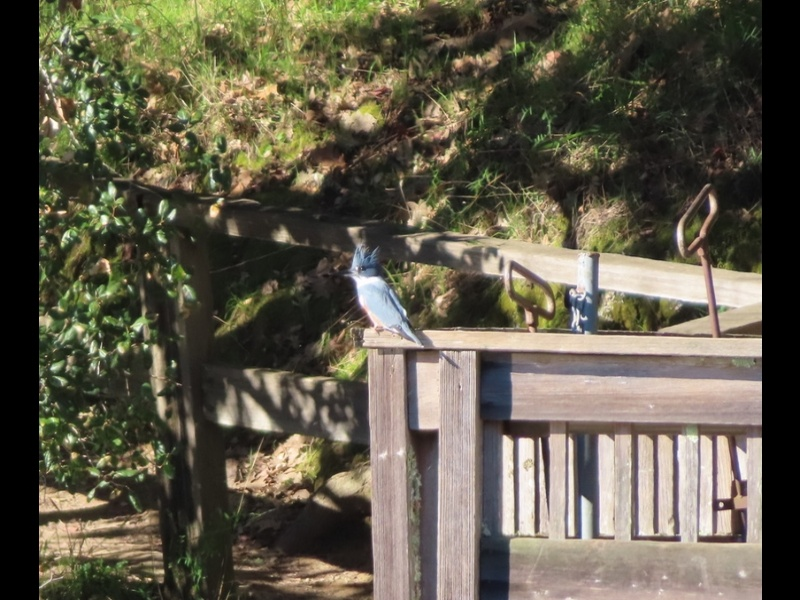kingfisher: (344, 248, 426, 349)
